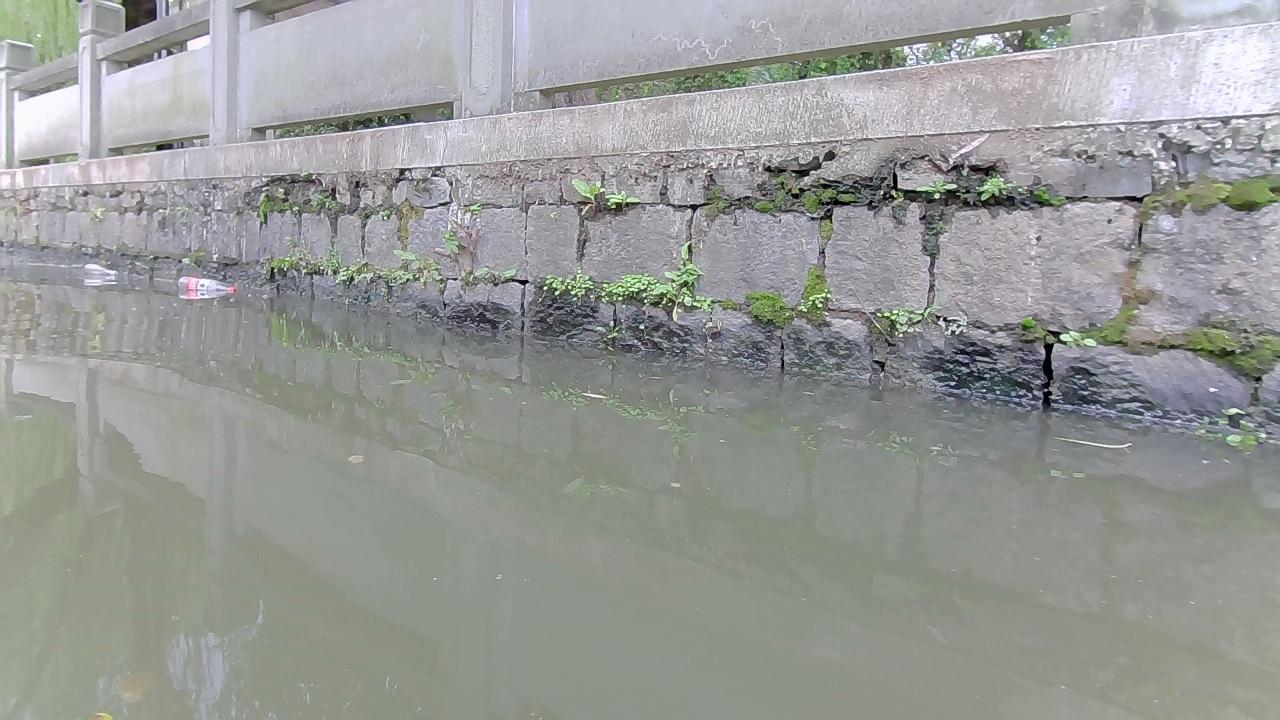bottle: (176, 276, 236, 291), (83, 262, 118, 275)
